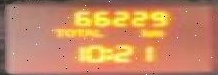0: (83, 44, 103, 61)
1: (140, 44, 154, 61), (74, 45, 83, 60)
2: (112, 44, 132, 61), (127, 10, 147, 25), (109, 10, 127, 25)
6: (89, 10, 109, 25), (72, 10, 90, 25)
9: (147, 10, 167, 25)
X: (49, 26, 63, 36), (103, 46, 112, 59), (63, 27, 74, 36), (138, 27, 149, 35), (74, 27, 83, 36), (83, 27, 92, 36), (92, 27, 101, 36), (149, 30, 160, 35)
